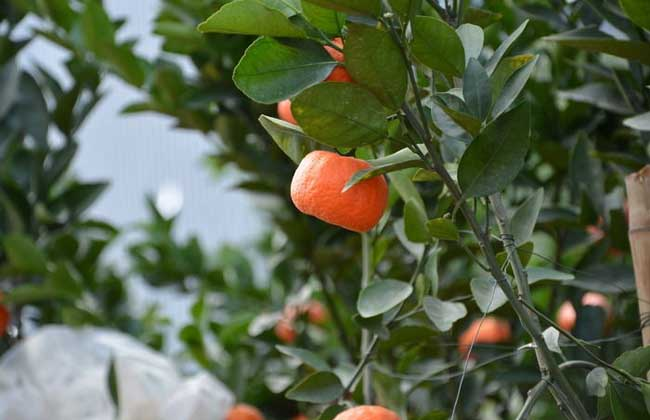orange: (290, 149, 390, 234), (325, 403, 410, 420)
